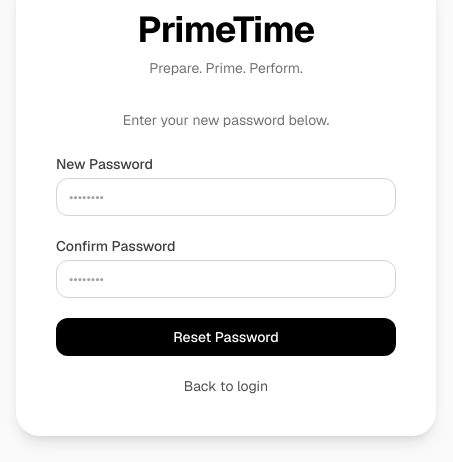
Test case: ResetPasswordPage › shows success state after successful password reset
In the password field labelled "New Password": (226, 197) [56,178,396,216], type "NewPassword1!"
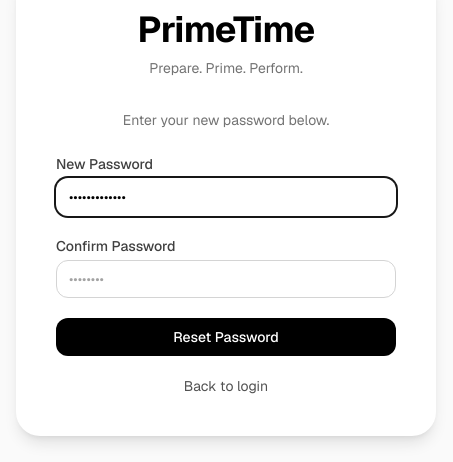
In the password field labelled "Confirm Password": (226, 279) [56,260,396,298], type "NewPassword1!"
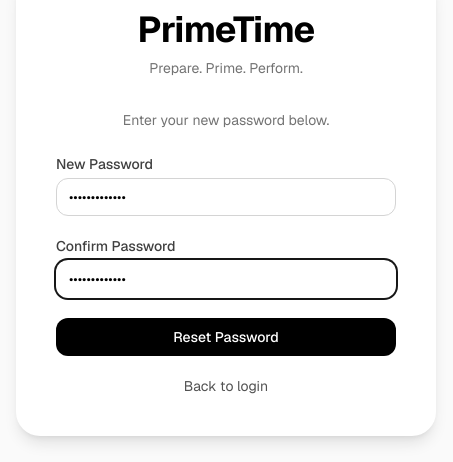
Click the button "Reset Password": (226, 337) [56,318,396,356]
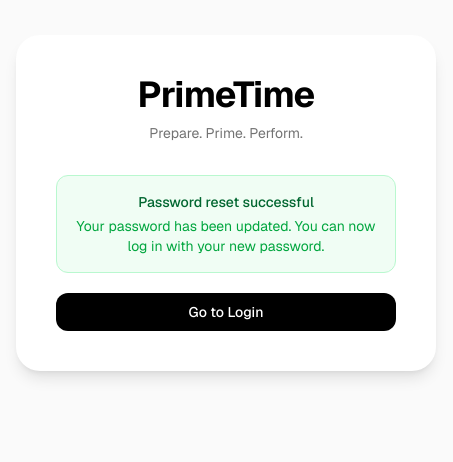
Now the text "Password reset successful" is shown, box [138,193,314,211]
